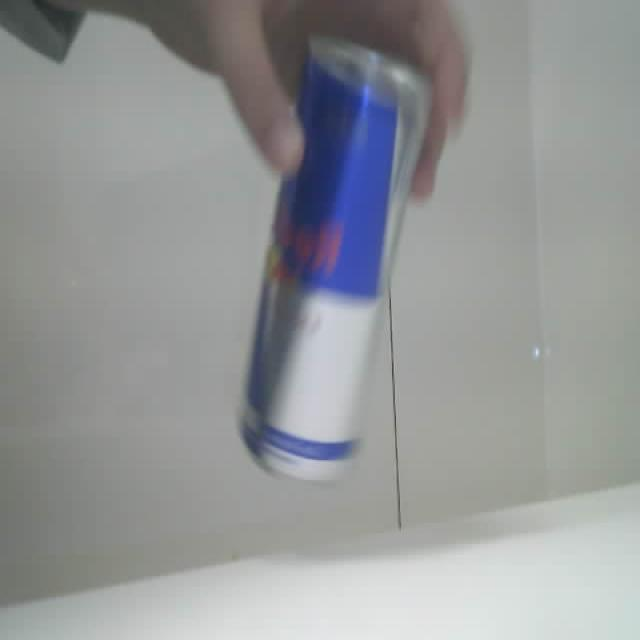redbull can: (241, 38, 428, 481)
